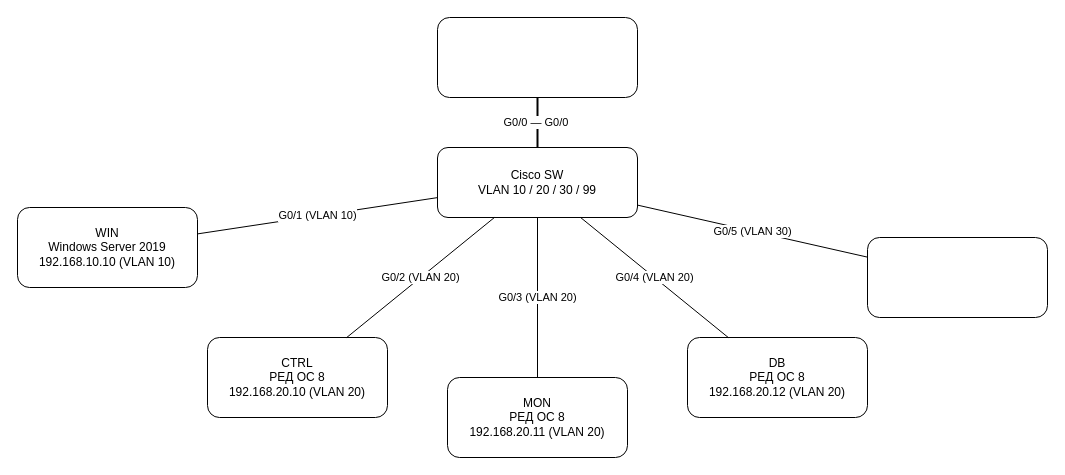
Image size: 1065x475. Some labels were removed from this diagram. The centre of each missing label's shape, as x and y in pixels:
Cisco RTR G0/0.10 192.168.10.1 G0/0.20 192.168.20.1 G0/0.30 192.168.30.1: pixel 537 57
IOT (Node-RED) РЕД ОС 8 192.168.30.10 (VLAN 30): pixel 957 277
